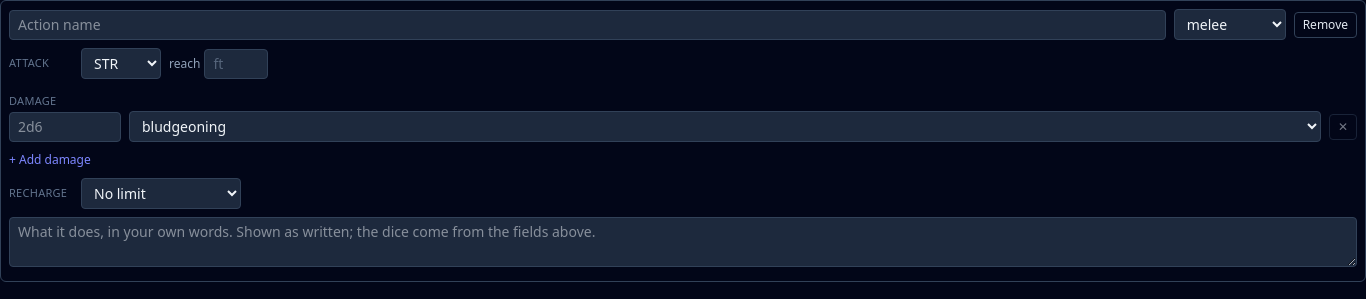
Test: ActionEditor › reveals the recharge value only once a recharge kind is chosen
Select "Recharge die" in the dropdown named "Recharge kind" at (161, 194), box [81,178,241,209]
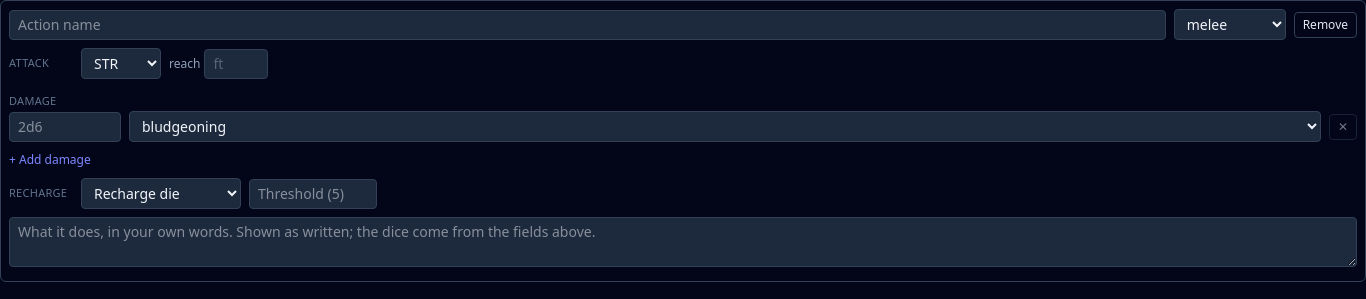
Expected: the field with placeholder "Threshold (5)" is shown, [249,178,377,208]
Select "Per day" in the dropdown named "Recharge kind" at (161, 194), box [81,178,241,209]
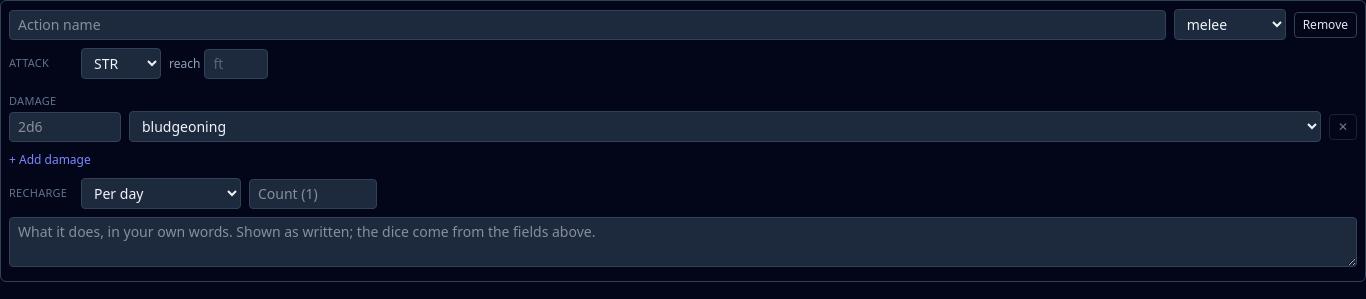
Expected: the field with placeholder "Count (1)" is shown, [249,178,377,208]
